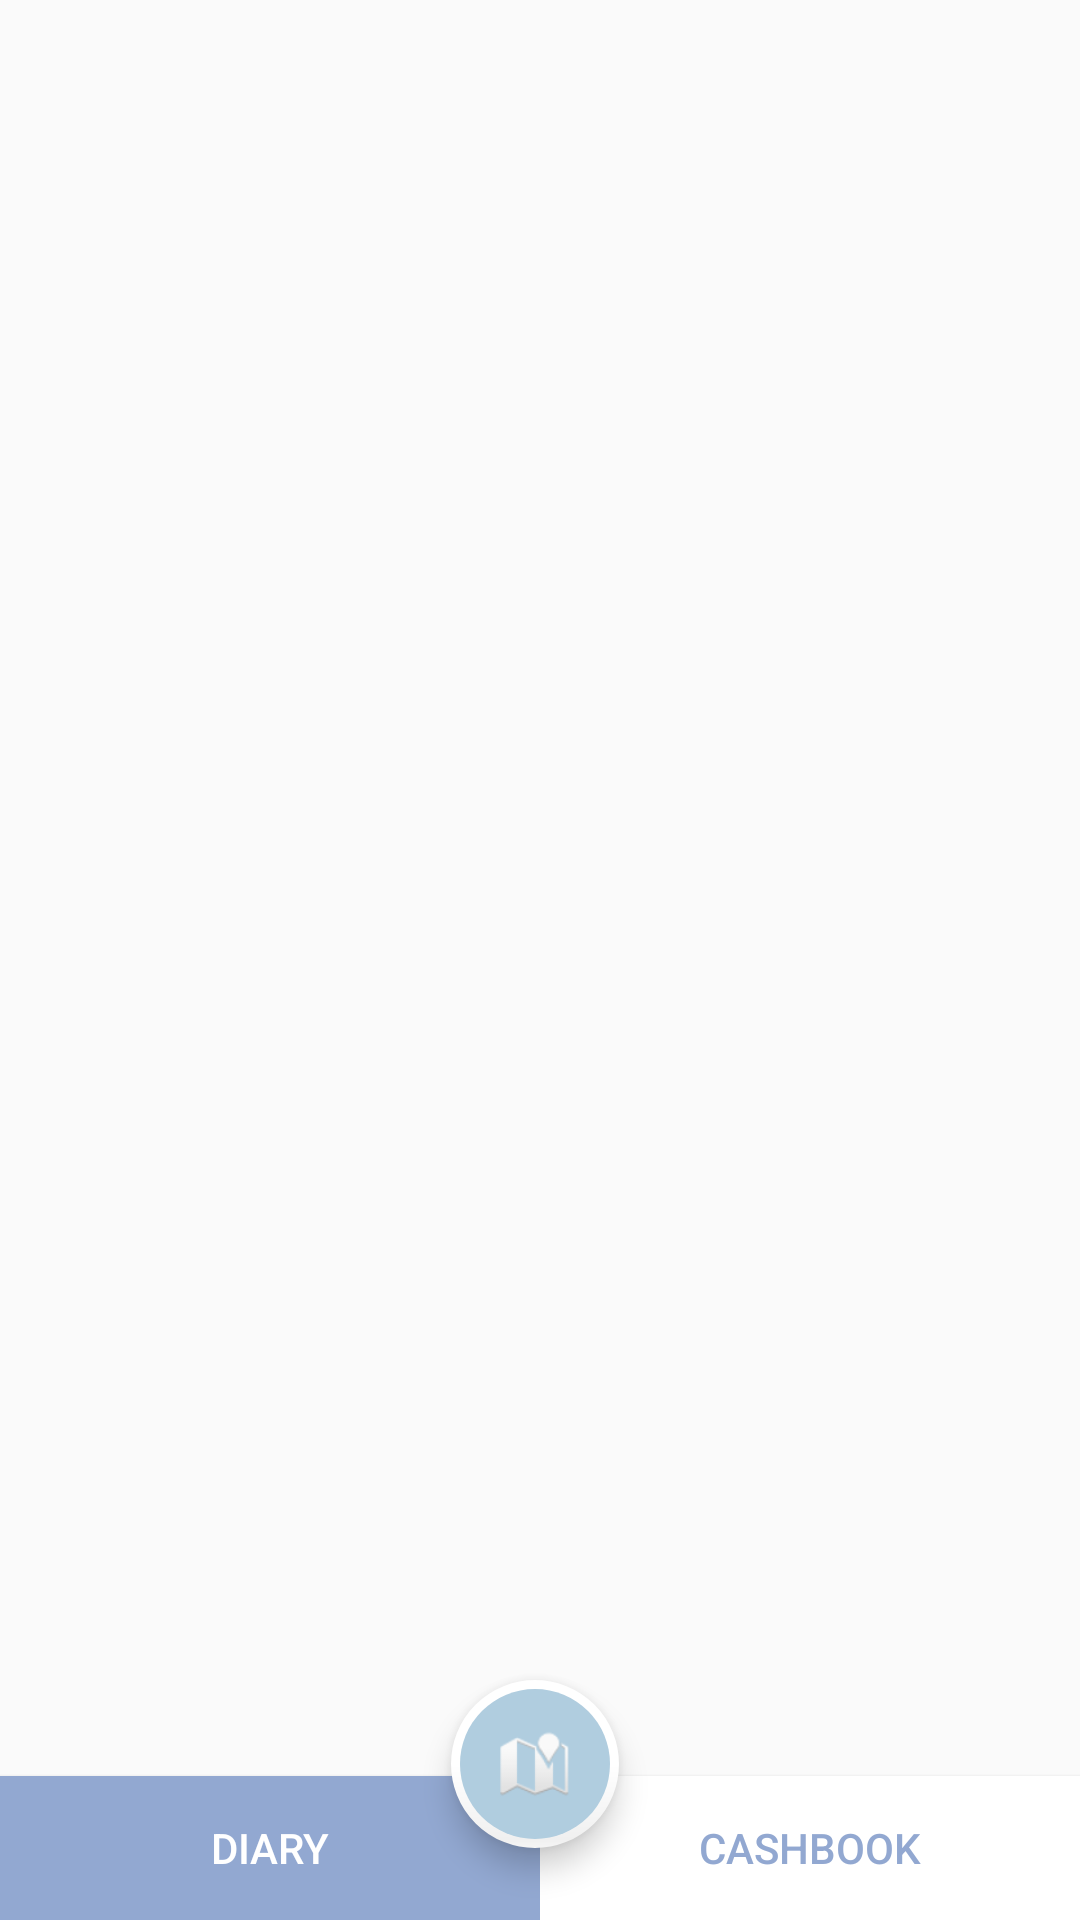

Named icons in this screenshot (1080 x 1920) and their centers, (x,y):
map: (539,1764)
